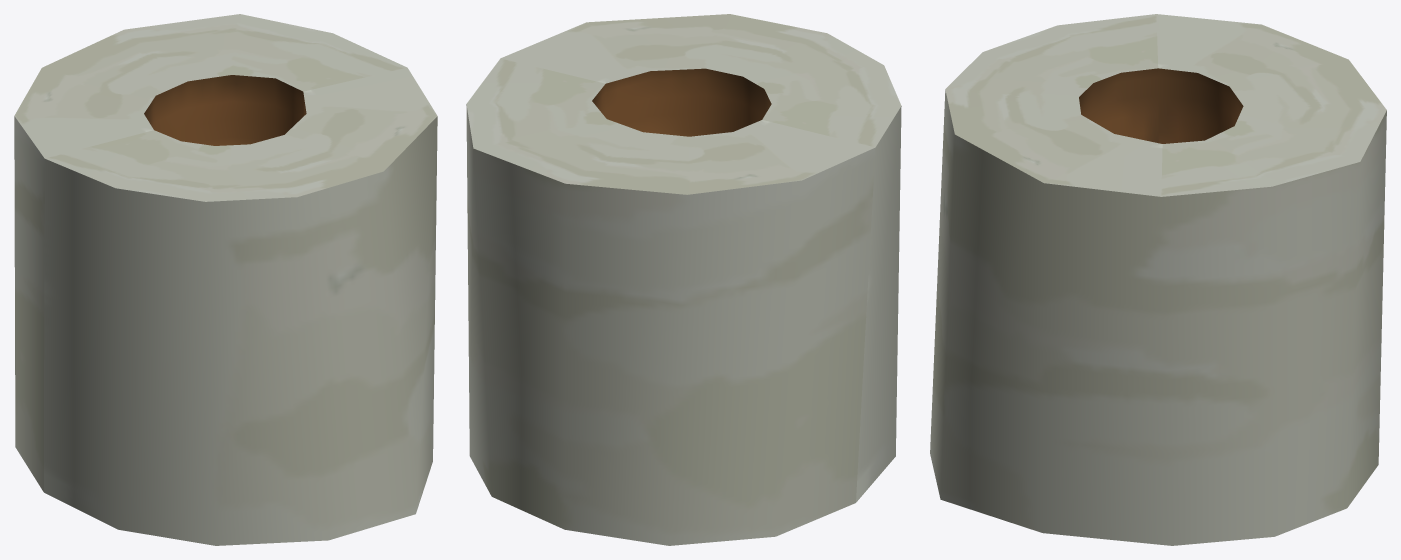
File: SM_PROP_toiletpaper_interior_01.fbx
3 views of the same model, side by side, from view 1: azimuth 30°, elevation 25°; view 2: azimuth 150°, elevation 25°; view 3: azimuth 270°, elevation 25° (orthographic). The views are drawn at different scales.
Parts seen in each view (by area): view 1: SM_PROP_toiletpaper_interior_01; view 2: SM_PROP_toiletpaper_interior_01; view 3: SM_PROP_toiletpaper_interior_01.
Boxes of the visible parts, left/top/right/bottom form: SM_PROP_toiletpaper_interior_01: left=14, top=14, right=437, bottom=545; SM_PROP_toiletpaper_interior_01: left=466, top=14, right=901, bottom=545; SM_PROP_toiletpaper_interior_01: left=930, top=14, right=1386, bottom=545.
Size of the model in its own units: 20.73 by 18.68 by 21.89.
